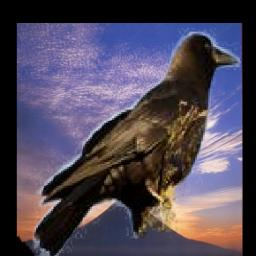Crow: (33, 25, 241, 256)
